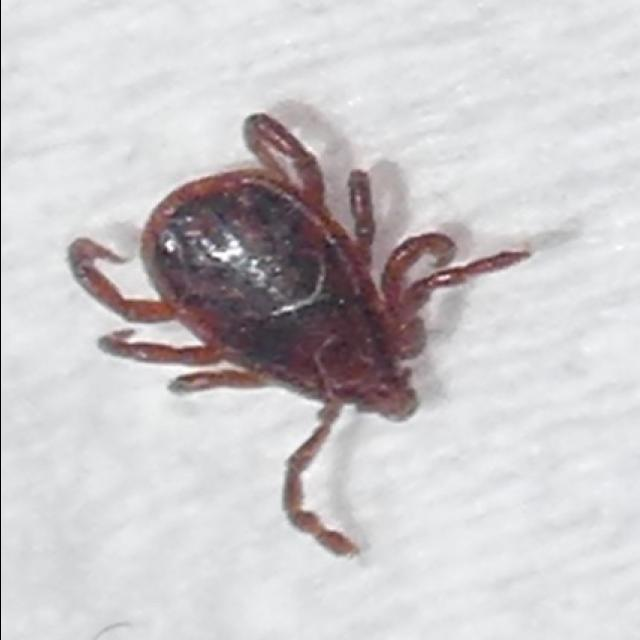Rhipicephalus Sanguineus-M: (64, 112, 528, 557)
